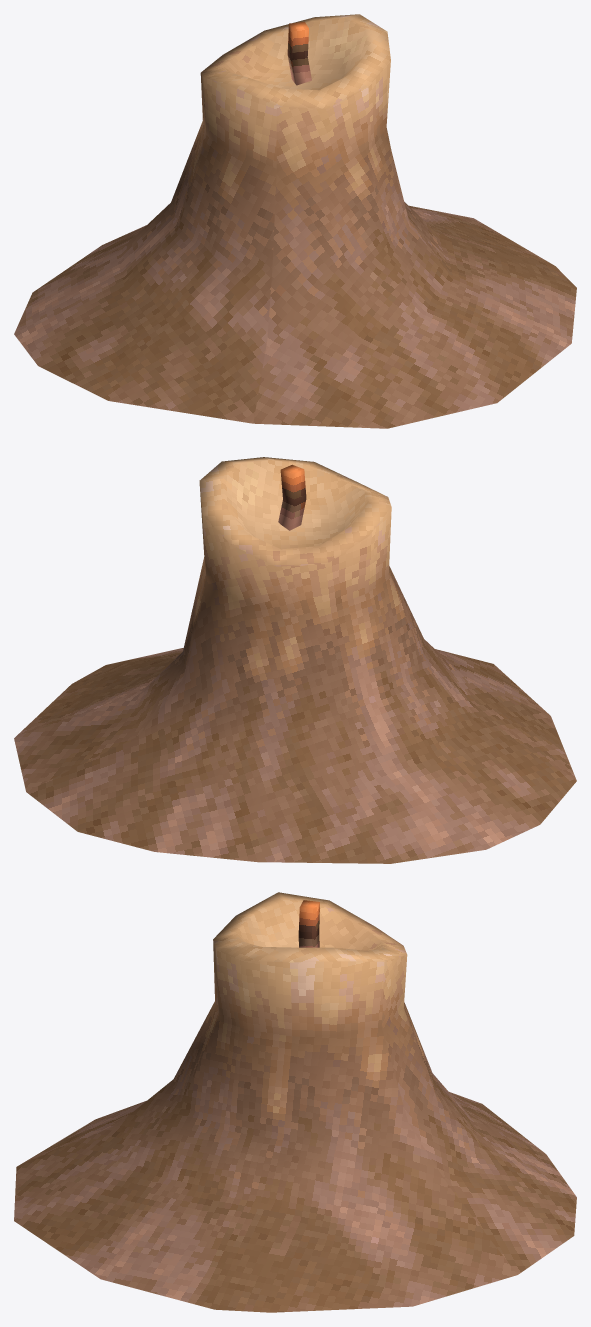
File: candle_stage3.glb
The picture shows the model from 3 angles, top to bottom: view 1: azimuth 30°, elevation 25°; view 2: azimuth 150°, elevation 25°; view 3: azimuth 270°, elevation 25°; orthographic projection. The views are drawn at different scales.
Visible parts, largest first — view 1: candle_stage3; view 2: candle_stage3; view 3: candle_stage3.
Boxes of the visible parts, x1=… form: candle_stage3: x1=14, y1=14, x2=576, y2=428; candle_stage3: x1=14, y1=457, x2=576, y2=863; candle_stage3: x1=14, y1=892, x2=576, y2=1312.
Size of the model in its own units: 0.3069 by 0.17 by 0.2989.
Materials: 1 (1 with a texture image).
